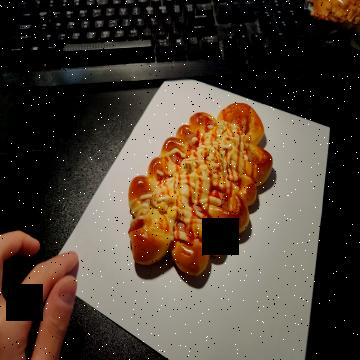pizza_bread: (129, 105, 273, 280)
